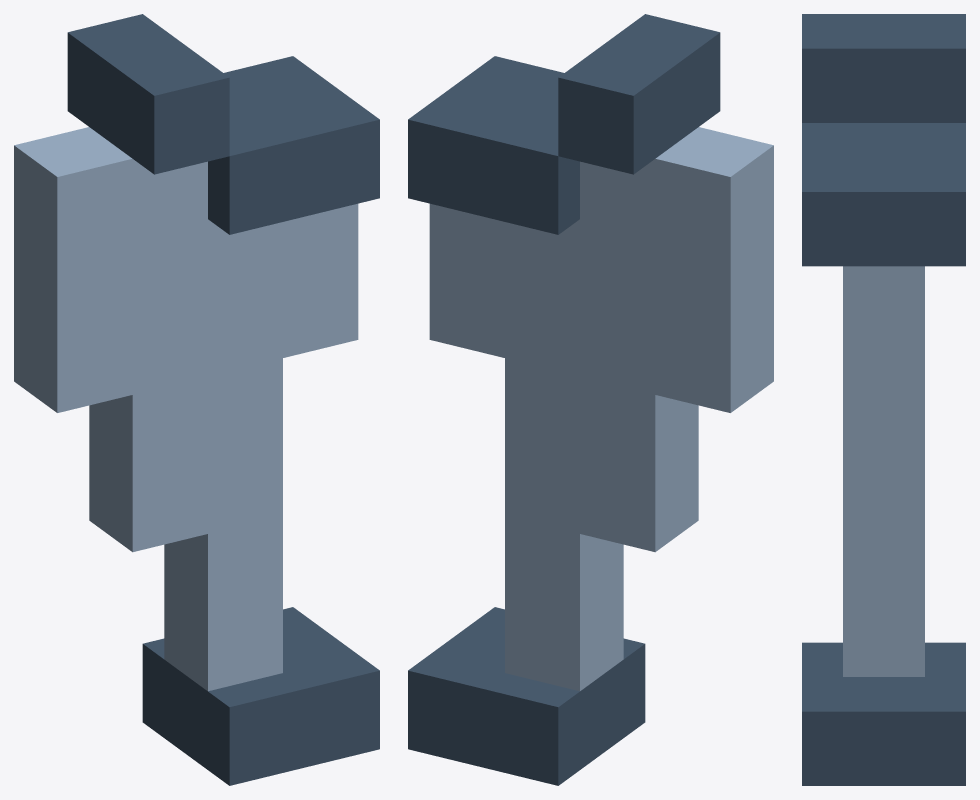
Rendered from Broken Rock2.fbx.
The picture shows the model from 3 angles, left to right: view 1: azimuth 30°, elevation 25°; view 2: azimuth 150°, elevation 25°; view 3: azimuth 270°, elevation 25°; orthographic projection. The views are drawn at different scales.
Parts seen in each view (by area): view 1: generated; view 2: generated; view 3: generated.
Part boxes in pixels (x1,y1,x2,y2): generated: [14, 14, 379, 785]; generated: [408, 14, 773, 785]; generated: [802, 14, 965, 785].
Bounding box in the file's own units: 40 × 90 × 20.
